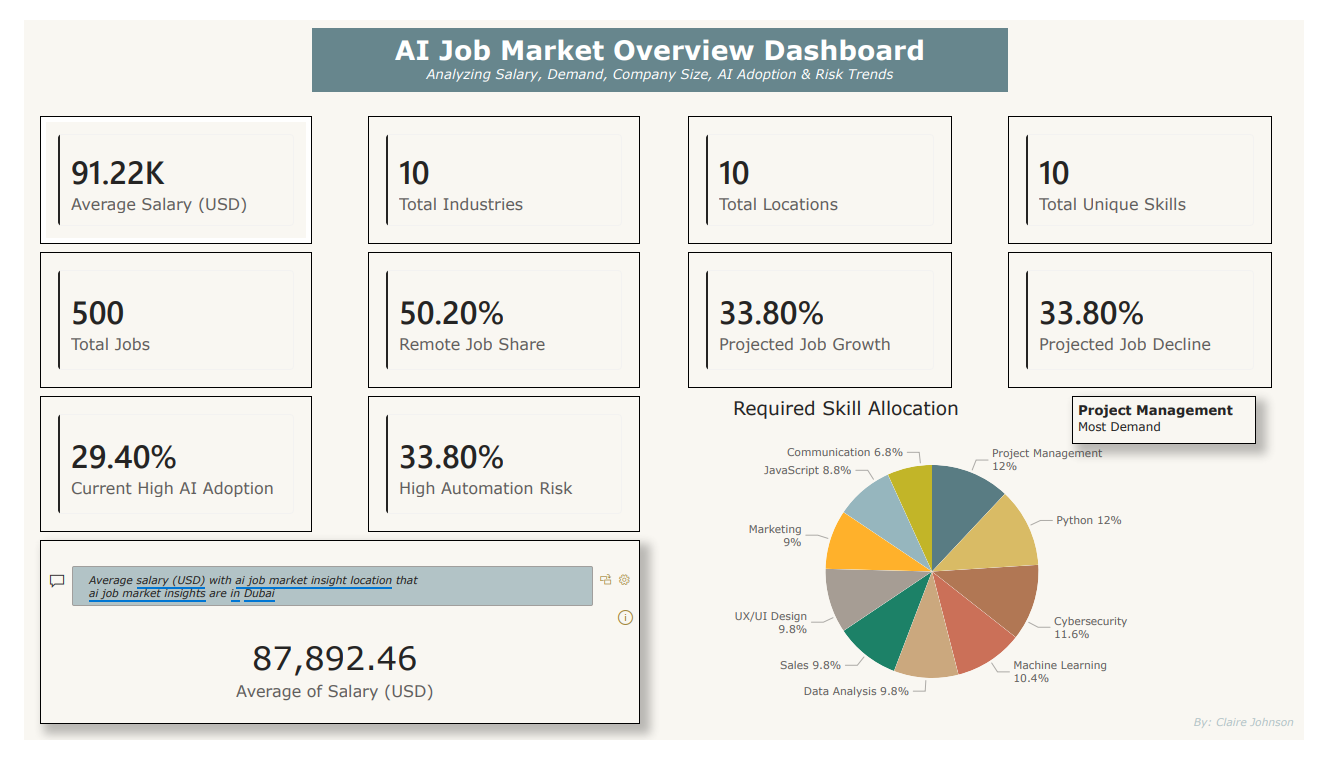

The dashboard page shown, as its layout file describes it:
{"tool":"powerbi","page":{"name":"Overview","canvas":[1280,720],"ordinal":0},"visuals":[{"type":"cardVisual","fields":{"Data":["Avg(ai_job_market_insights.Salary in USD)"]},"box":[16,96,272,128],"z":0},{"type":"cardVisual","title":"Total Jobs","fields":{"Data":["CountNonNull(ai_job_market_insights.Job Tilte)"]},"box":[16,232,272,136],"z":1000},{"type":"cardVisual","fields":{"Data":["Count(ai_job_market_insights.Industry)"]},"box":[344,96,272,128],"z":2000},{"type":"cardVisual","fields":{"Data":["Count(ai_job_market_insights.Location)"]},"box":[664,96,264,128],"z":3000},{"type":"cardVisual","fields":{"Data":["Count(ai_job_market_insights.Required Skills)"]},"box":[984,96,264,128],"z":4000},{"type":"pieChart","title":"Required Skill Allocation","fields":{"Category":["ai_job_market_insights.Required Skills"],"Y":["CountNonNull(ai_job_market_insights.Required Skills)"]},"box":[704,376,408,328],"z":5000},{"type":"qnaVisual","box":[16,520,600,184],"z":6000},{"type":"cardVisual","fields":{"Data":["ai_job_market_insights.Remote Job Percentage"]},"box":[344,232,272,136],"z":7000},{"type":"cardVisual","fields":{"Data":["ai_job_market_insights.% High AI Adoption"]},"box":[16,376,272,136],"z":8000},{"type":"cardVisual","fields":{"Data":["ai_job_market_insights.% High Automation Risk"]},"box":[344,376,272,136],"z":9000},{"type":"cardVisual","fields":{"Data":["ai_job_market_insights.% Job Decline Projection"]},"box":[984,232,264,136],"z":10000},{"type":"cardVisual","fields":{"Data":["ai_job_market_insights.% Job Growth Projection"]},"box":[664,232,264,136],"z":11000},{"type":"textbox","box":[288,8,696,64],"z":12000},{"type":"textbox","box":[1160,688,120,32],"z":13000},{"type":"textbox","box":[1048,376,184,48],"z":14000}]}

Visuals, with their boxes in screenshot pixels (x1, y1, x2, y2), scaled from the page's 1280x720 canvas onto the 1326x762 screenshot:
cardVisual - Avg(ai_job_market_insights.Salary in USD): 17,102,298,237
"Total Jobs" cardVisual: 17,246,298,389
cardVisual - Count(ai_job_market_insights.Industry): 356,102,638,237
cardVisual - Count(ai_job_market_insights.Location): 688,102,961,237
cardVisual - Count(ai_job_market_insights.Required Skills): 1019,102,1293,237
"Required Skill Allocation" pieChart: 729,398,1152,745
qnaVisual: 17,550,638,745
cardVisual - ai_job_market_insights.Remote Job Percentage: 356,246,638,389
cardVisual - ai_job_market_insights.% High AI Adoption: 17,398,298,542
cardVisual - ai_job_market_insights.% High Automation Risk: 356,398,638,542
cardVisual - ai_job_market_insights.% Job Decline Projection: 1019,246,1293,389
cardVisual - ai_job_market_insights.% Job Growth Projection: 688,246,961,389
textbox: 298,8,1019,76
textbox: 1202,728,1325,761
textbox: 1086,398,1276,449
